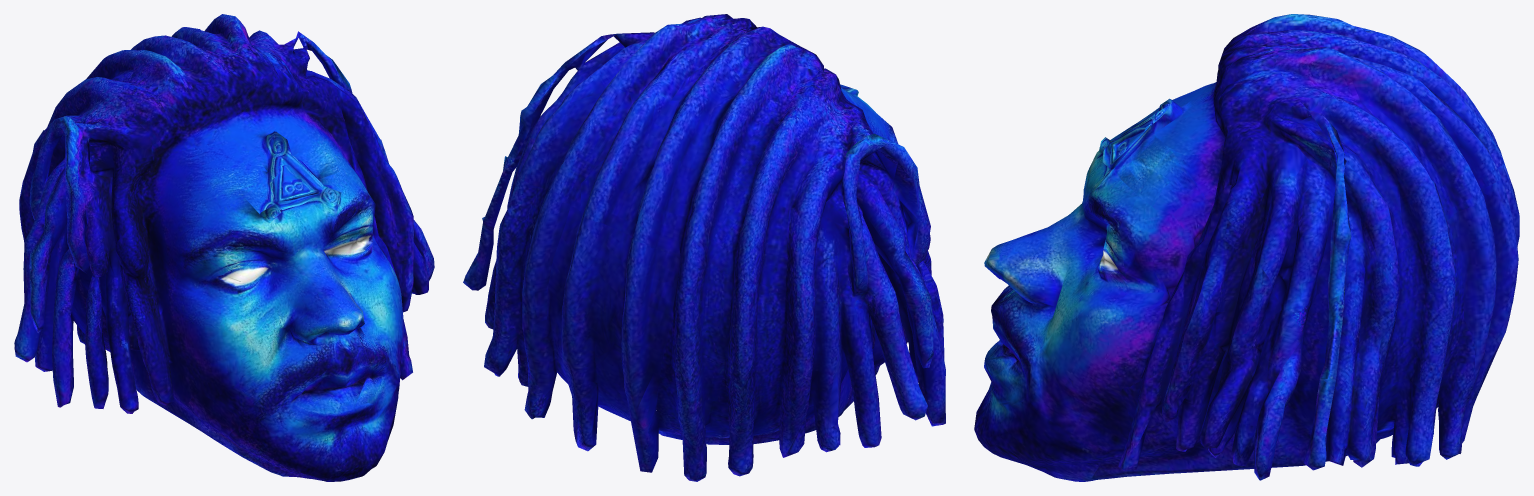
File: MARS_LOD2.glb
3 views of the same model, side by side, from view 1: azimuth 30°, elevation 25°; view 2: azimuth 150°, elevation 25°; view 3: azimuth 270°, elevation 25° (orthographic). The views are drawn at different scales.
Parts seen in each view (by area): view 1: tripo_node_63779a1f-eb9a-4b4a-a12c-e90b88a426b1; view 2: tripo_node_63779a1f-eb9a-4b4a-a12c-e90b88a426b1; view 3: tripo_node_63779a1f-eb9a-4b4a-a12c-e90b88a426b1.
Boxes of the visible parts, box(x1,y1,x2,y2) form: tripo_node_63779a1f-eb9a-4b4a-a12c-e90b88a426b1: box(14, 14, 434, 481); tripo_node_63779a1f-eb9a-4b4a-a12c-e90b88a426b1: box(463, 14, 945, 481); tripo_node_63779a1f-eb9a-4b4a-a12c-e90b88a426b1: box(974, 14, 1519, 481).
Bounding box in the file's own units: 0.9714 × 0.8432 × 0.9734.
1 material, 1 textured.
